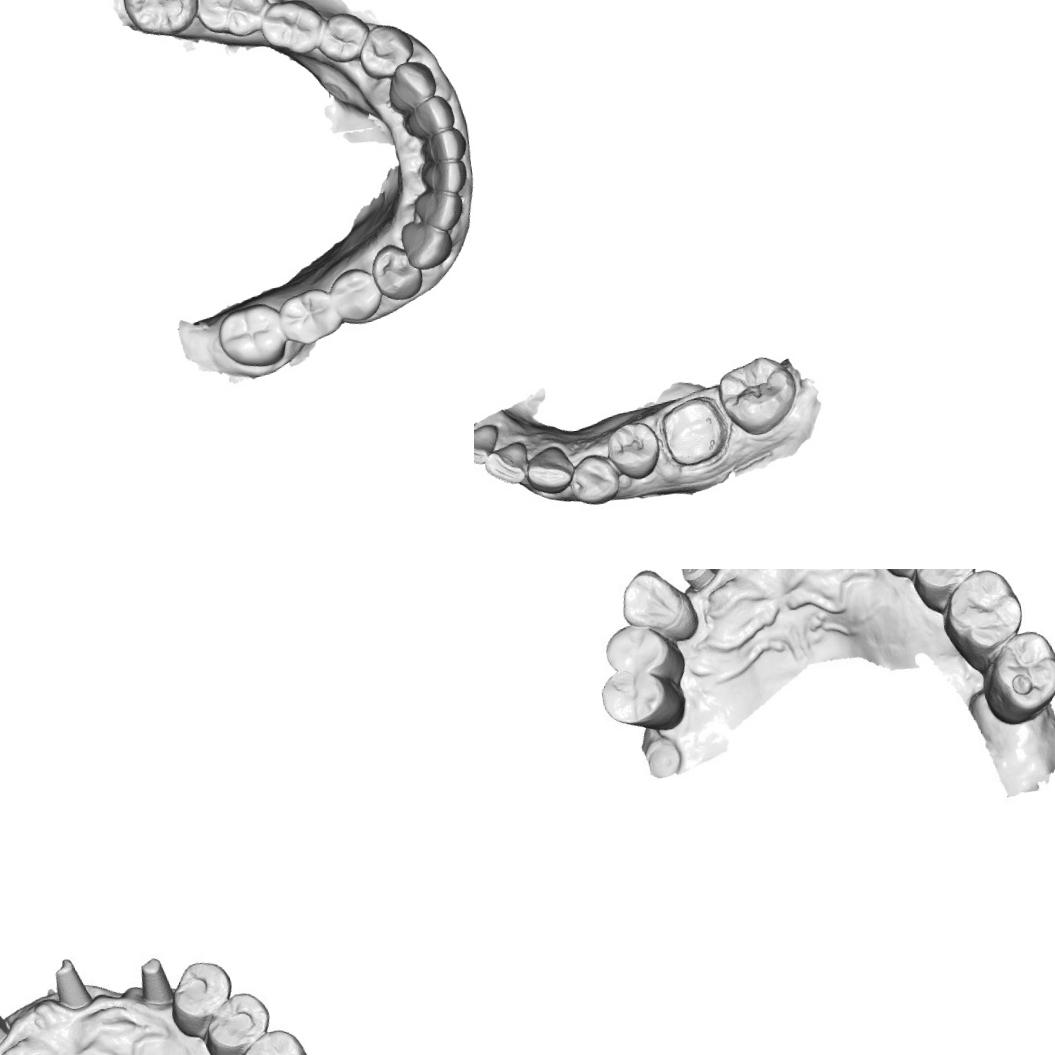abutment: (44, 950, 98, 1016), (133, 948, 179, 1018)
canine: (614, 569, 699, 649), (382, 57, 440, 115), (398, 216, 454, 272), (522, 442, 578, 498)
crown: (656, 392, 730, 470)
implant_plus: (677, 569, 721, 589), (0, 1006, 13, 1049)
incisor: (399, 92, 460, 142), (480, 438, 533, 489), (411, 187, 466, 236), (416, 123, 470, 169), (416, 156, 470, 201), (474, 421, 504, 469)
molar: (935, 569, 1033, 678), (974, 627, 1055, 728), (713, 350, 802, 441), (213, 298, 289, 372), (274, 284, 344, 351), (256, 0, 328, 60), (117, 0, 203, 43), (190, 0, 272, 44), (227, 1023, 325, 1055)
premolar: (595, 666, 691, 740), (162, 957, 238, 1044), (604, 617, 691, 692), (201, 987, 277, 1055), (603, 417, 665, 484), (367, 238, 426, 306), (355, 20, 418, 81), (312, 8, 373, 68), (328, 264, 385, 328), (909, 569, 985, 617), (565, 450, 623, 509)
